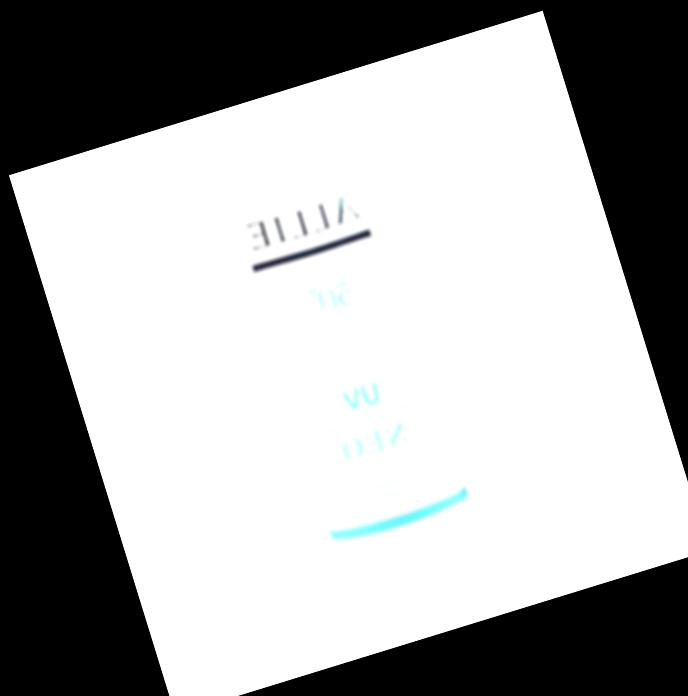cosmetic: (181, 95, 521, 630)
